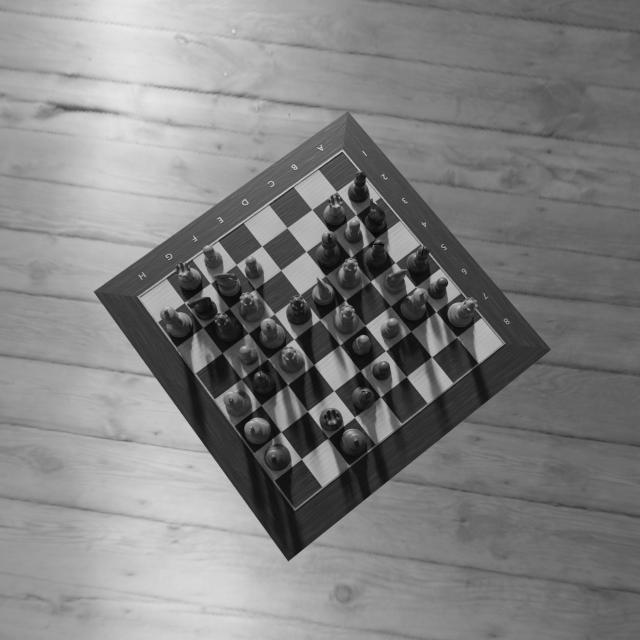chessboard: (141, 151, 504, 509)
